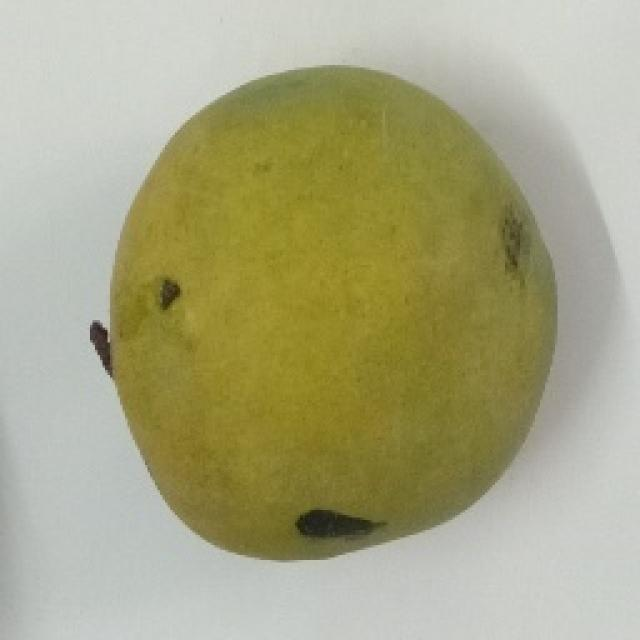defective: (88, 60, 560, 560)
